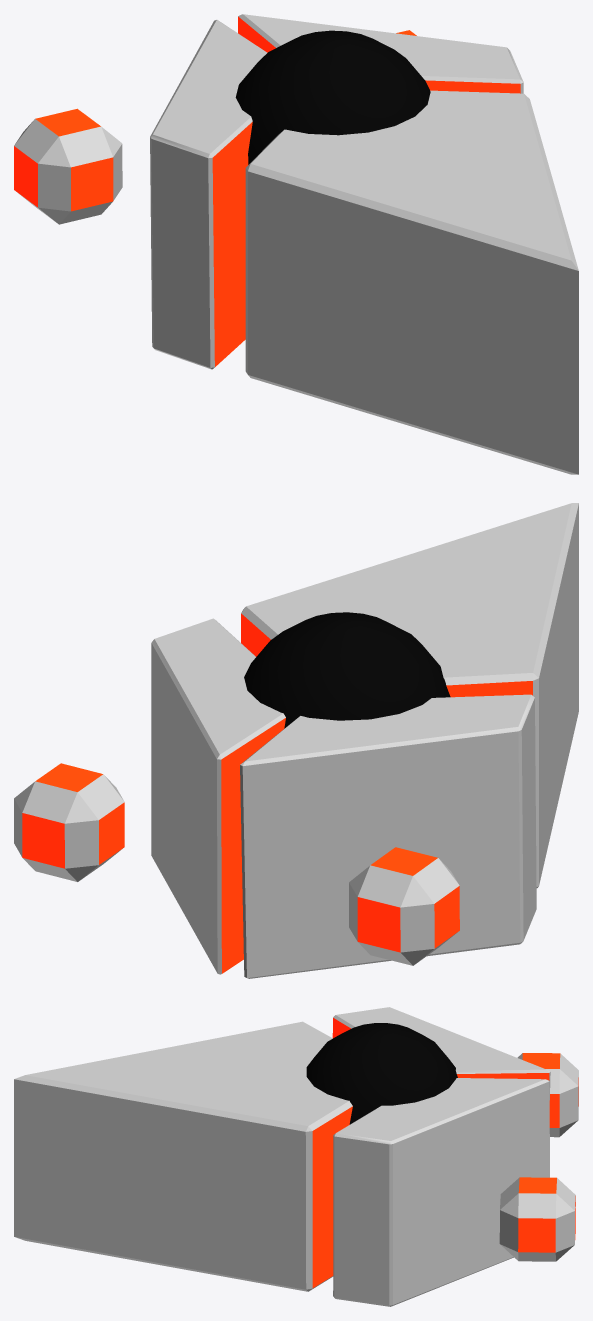
File: ShipSkin.fbx
3 views of the same model, one above another, from view 1: azimuth 30°, elevation 25°; view 2: azimuth 150°, elevation 25°; view 3: azimuth 270°, elevation 25° (orthographic). The views are drawn at different scales.
Parts seen in each view (by area): view 1: pCube1, polySurface6, polySurface9, polySurface3, polySurface4; view 2: polySurface6, pCube1, polySurface4, polySurface9, polySurface2, polySurface3; view 3: pCube1, polySurface4, polySurface9, polySurface2, polySurface6, polySurface3.
Part boxes in pixels (box(x1,y1,x2,y2)): pCube1: box(245, 90, 578, 474); polySurface6: box(150, 20, 267, 369); polySurface9: box(235, 30, 430, 164); polySurface3: box(14, 108, 122, 224); polySurface4: box(238, 14, 523, 93); polySurface6: box(240, 694, 536, 978); pCube1: box(241, 503, 578, 887); polySurface4: box(151, 618, 285, 974); polySurface9: box(244, 612, 450, 728); polySurface2: box(14, 763, 124, 881); polySurface3: box(349, 847, 459, 965); pCube1: box(14, 1021, 352, 1291); polySurface4: box(333, 1078, 549, 1306); polySurface9: box(306, 1023, 457, 1124); polySurface2: box(499, 1177, 575, 1261); polySurface6: box(332, 1007, 550, 1099); polySurface3: box(517, 1053, 578, 1137).
Size of the model in its own units: 2.02 by 1.26 by 3.09.
